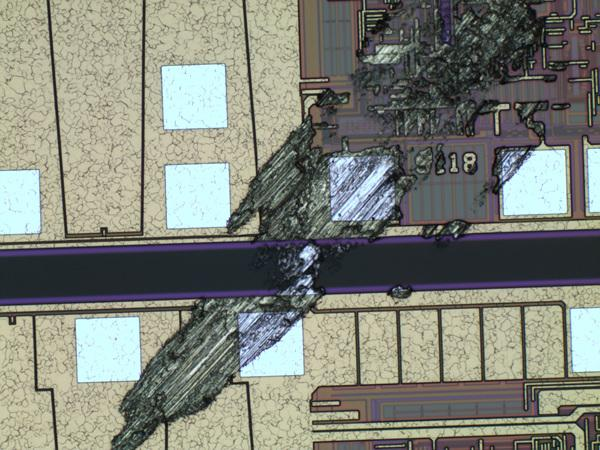SCRATCH: (105, 1, 577, 450)
